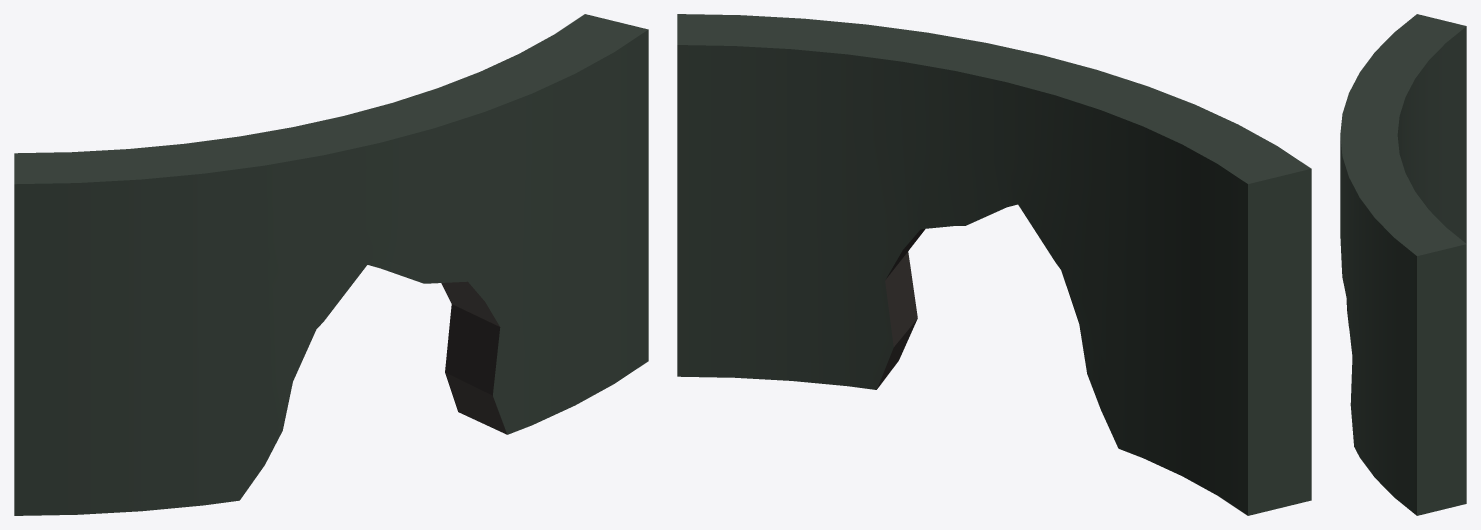
The model's file is SM_WallRingLarge_DamageEntrance.fbx.
3 renders of one model, left to right at view 1: azimuth 30°, elevation 25°; view 2: azimuth 150°, elevation 25°; view 3: azimuth 270°, elevation 25°, orthographic. The views are drawn at different scales.
Visible parts, largest first — view 1: SM_WallRingLarge_DamageEntrance; view 2: SM_WallRingLarge_DamageEntrance; view 3: SM_WallRingLarge_DamageEntrance.
Part boxes in pixels (<box>): SM_WallRingLarge_DamageEntrance: <box>14,14,648,515</box>; SM_WallRingLarge_DamageEntrance: <box>677,14,1311,515</box>; SM_WallRingLarge_DamageEntrance: <box>1340,14,1466,515</box>.
Size of the model in its own units: 1000 by 500 by 221.
1 material, 1 textured.
